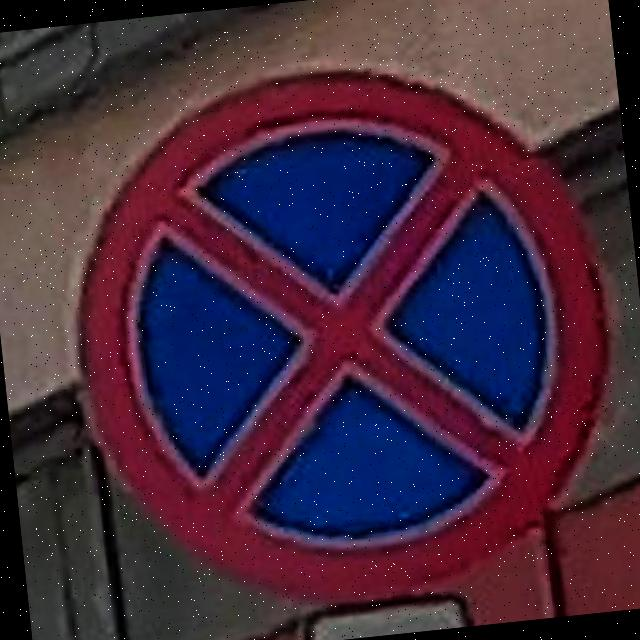Zakaz zatrzymywania sie: (44, 39, 636, 632)
